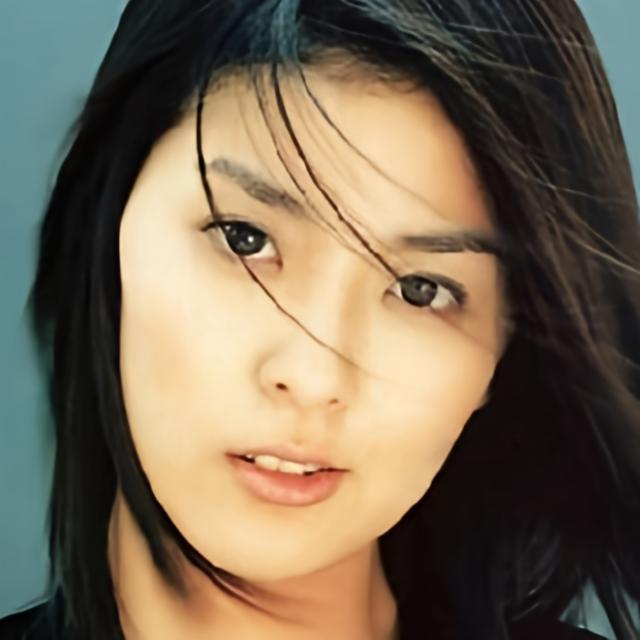neutral: (116, 48, 514, 586)
